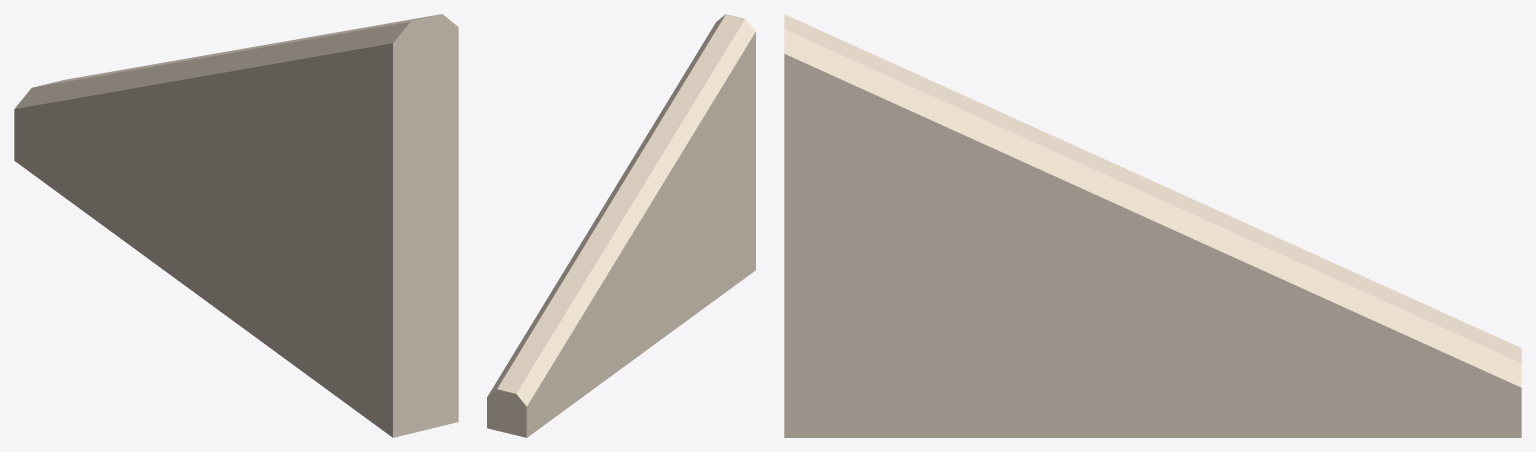
File: temple_Stairs_Coping_Ramp_Straight.glb
The picture shows the model from 3 angles, left to right: view 1: azimuth 30°, elevation 25°; view 2: azimuth 150°, elevation 25°; view 3: azimuth 270°, elevation 25°; orthographic projection. The views are drawn at different scales.
Parts seen in each view (by area): view 1: object1; view 2: object1; view 3: object1.
Part boxes in pixels (x1=…): object1: x1=14, y1=14, x2=458, y2=437; object1: x1=487, y1=14, x2=755, y2=437; object1: x1=784, y1=14, x2=1521, y2=437.
Size of the model in its own units: 0.2 by 1.2 by 2.
